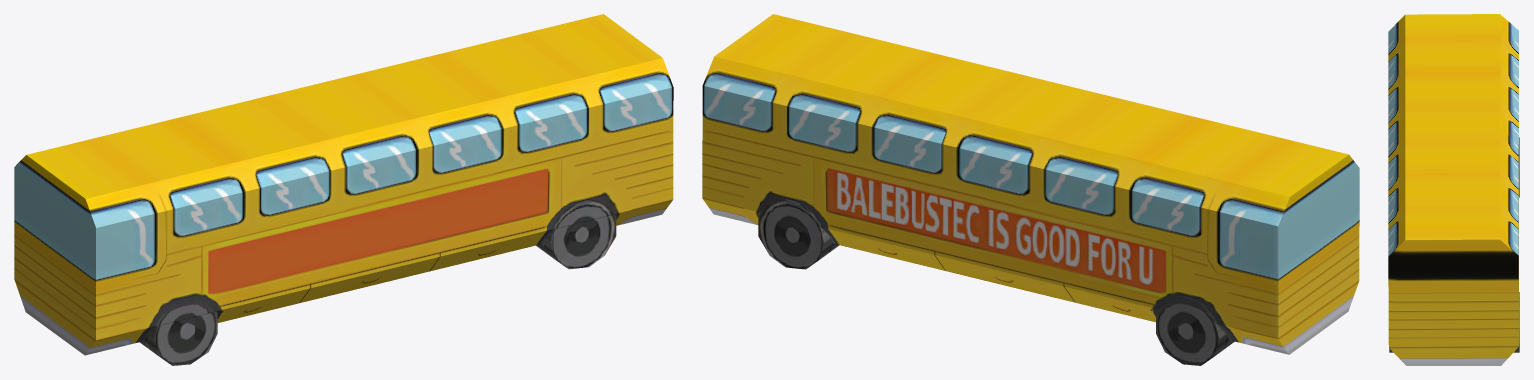
File: Bus3.glb
3 views of the same model, side by side, from view 1: azimuth 30°, elevation 25°; view 2: azimuth 150°, elevation 25°; view 3: azimuth 270°, elevation 25° (orthographic). The views are drawn at different scales.
Visible parts, largest first — view 1: Bus3; view 2: Bus3; view 3: Bus3.
Boxes of the visible parts, x1,y1,x2,y2 form: Bus3: [14, 14, 673, 365]; Bus3: [702, 14, 1359, 365]; Bus3: [1388, 14, 1519, 365].
Size of the model in its own units: 247 by 74.57 by 60.86.
1 material, 1 textured.
